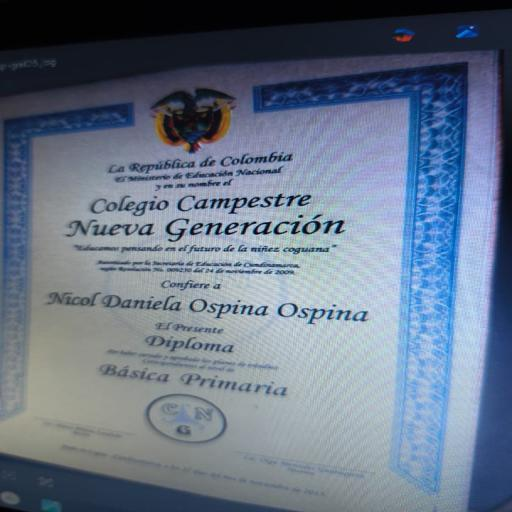bachillerato: (73, 356, 325, 412)
diploma: (2, 53, 497, 510)
escudo: (126, 72, 249, 159)
institucion: (50, 173, 360, 248)
nombre: (24, 285, 398, 337)
